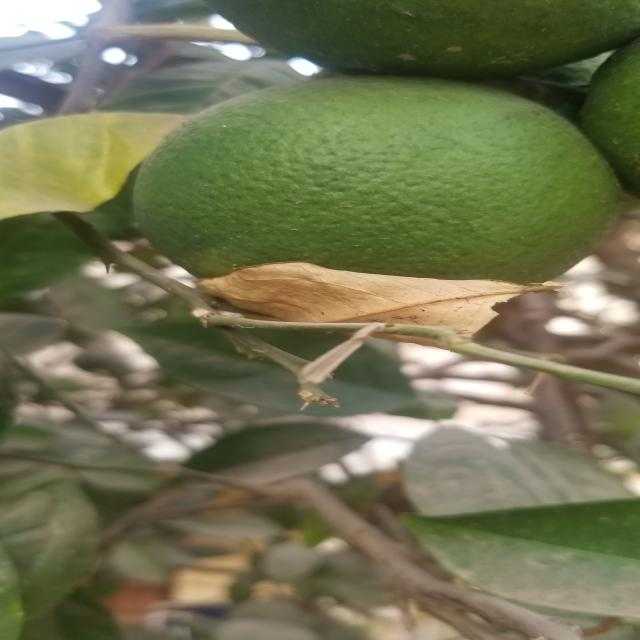Unripe: (147, 80, 614, 330)
